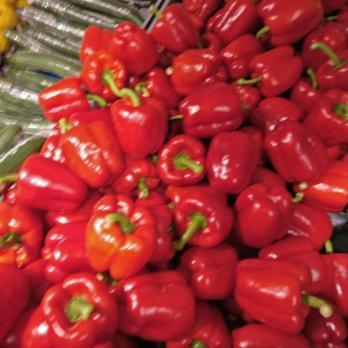Capsicum: (158, 3, 348, 348), (79, 20, 159, 348), (6, 155, 75, 348), (38, 75, 86, 123)
